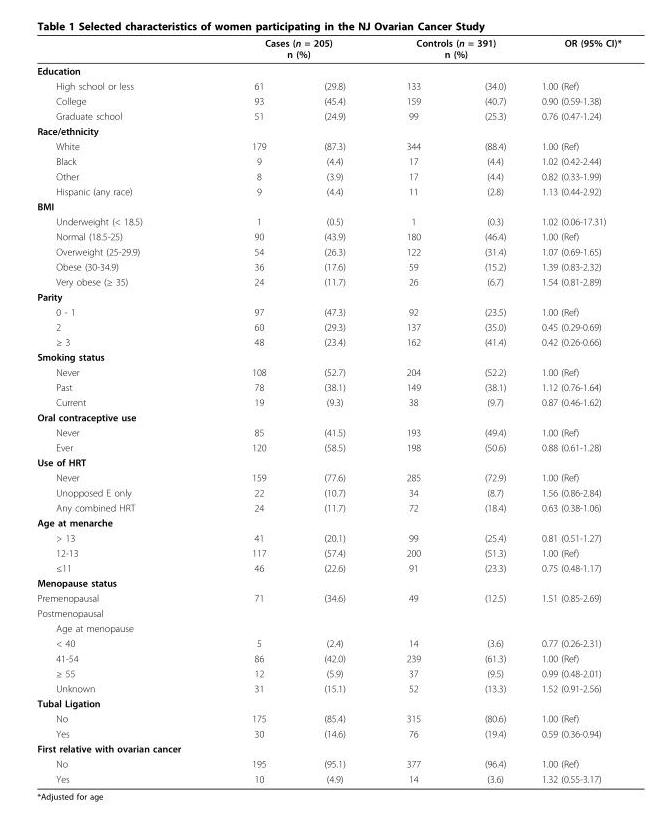table: (36, 36, 620, 784)
table column: (36, 36, 215, 784), (523, 36, 620, 784), (294, 36, 375, 784), (215, 36, 294, 784), (375, 36, 452, 784), (452, 36, 523, 784)
table column header: (36, 36, 620, 78)
table projected row header: (36, 288, 620, 304), (36, 514, 620, 530), (36, 123, 620, 138), (36, 198, 620, 213), (36, 349, 620, 364), (36, 409, 620, 424), (36, 454, 620, 469), (36, 575, 620, 590), (36, 605, 620, 620), (36, 620, 620, 635), (36, 695, 620, 710), (36, 740, 620, 755)
table row: (36, 36, 620, 62), (36, 62, 620, 78), (36, 288, 620, 304), (36, 514, 620, 530), (36, 755, 620, 771), (36, 78, 620, 93), (36, 93, 620, 108), (36, 108, 620, 123), (36, 123, 620, 138), (36, 138, 620, 153), (36, 153, 620, 168), (36, 168, 620, 183), (36, 183, 620, 198), (36, 198, 620, 213), (36, 213, 620, 228), (36, 228, 620, 243), (36, 243, 620, 258), (36, 258, 620, 273), (36, 273, 620, 288), (36, 304, 620, 319), (36, 319, 620, 334), (36, 334, 620, 349), (36, 349, 620, 364), (36, 364, 620, 379), (36, 379, 620, 394), (36, 394, 620, 409), (36, 409, 620, 424), (36, 424, 620, 439), (36, 439, 620, 454), (36, 454, 620, 469), (36, 469, 620, 484), (36, 484, 620, 499), (36, 499, 620, 514), (36, 530, 620, 545), (36, 545, 620, 560), (36, 560, 620, 575), (36, 575, 620, 590), (36, 590, 620, 605), (36, 605, 620, 620), (36, 620, 620, 635), (36, 635, 620, 650), (36, 650, 620, 665), (36, 665, 620, 680), (36, 680, 620, 695), (36, 695, 620, 710), (36, 710, 620, 725), (36, 725, 620, 740), (36, 740, 620, 755), (36, 771, 620, 784)
table spanning cell: (36, 36, 215, 78), (215, 36, 375, 62), (523, 36, 620, 78), (375, 36, 523, 62)
